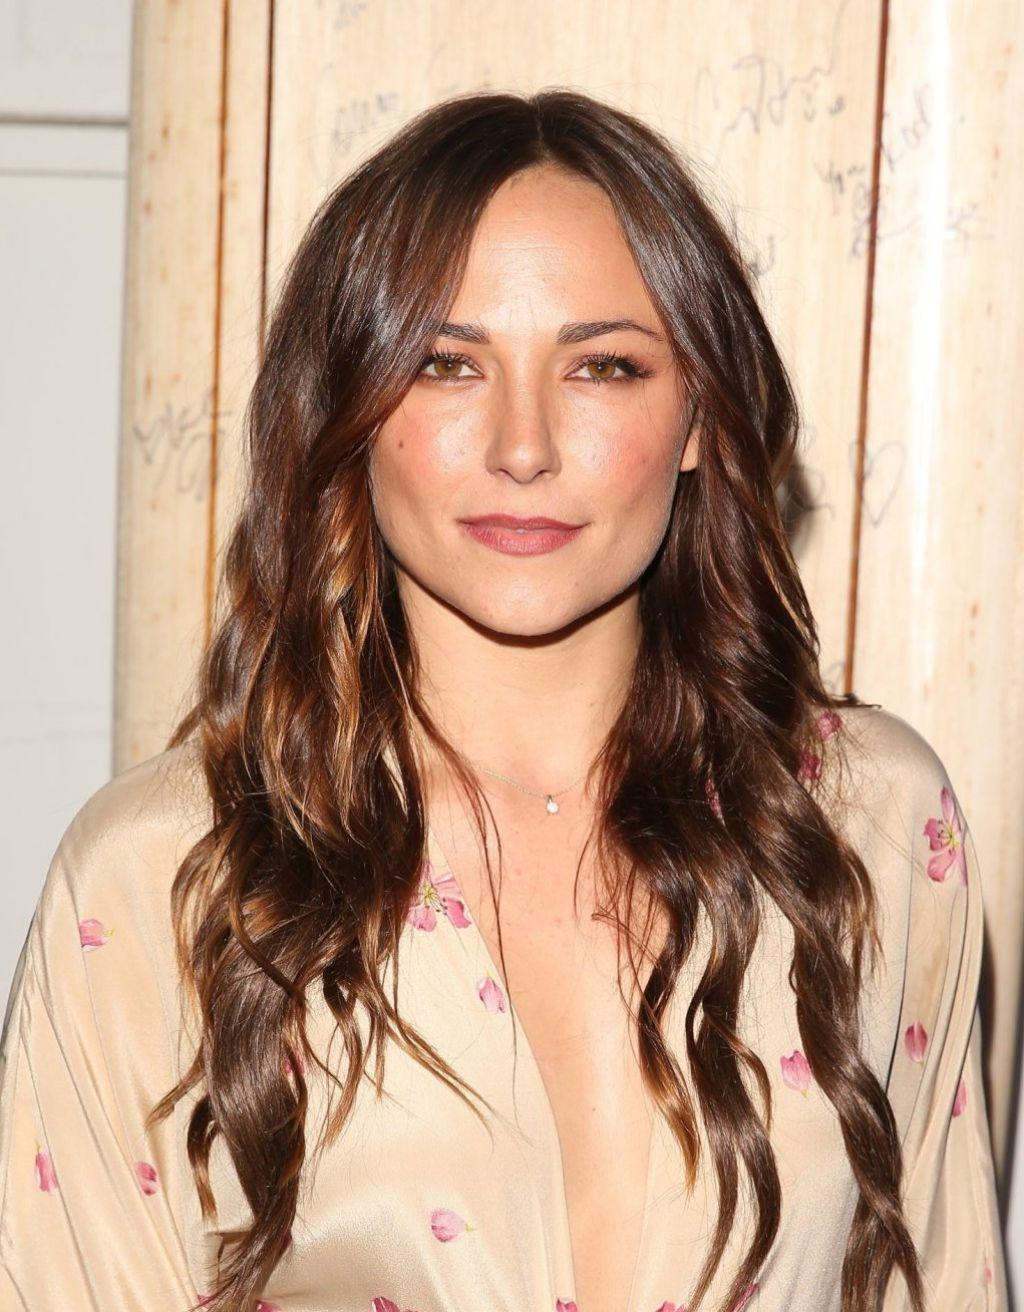face: (372, 170, 689, 636)
